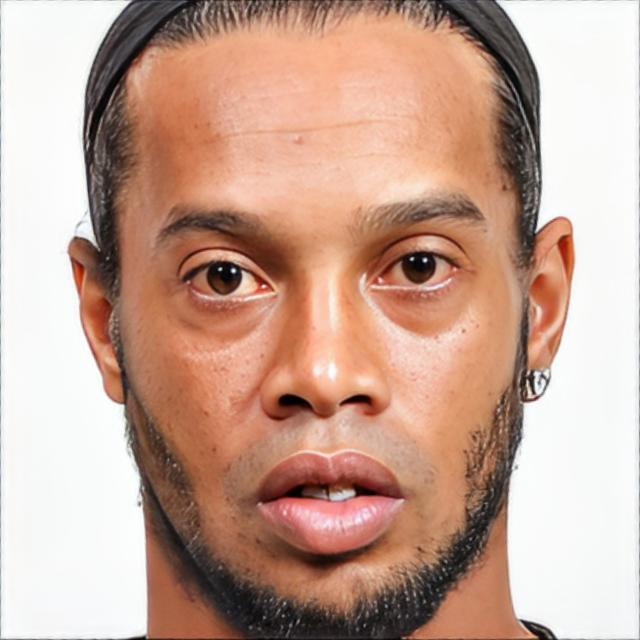surprise: (124, 60, 520, 640)
